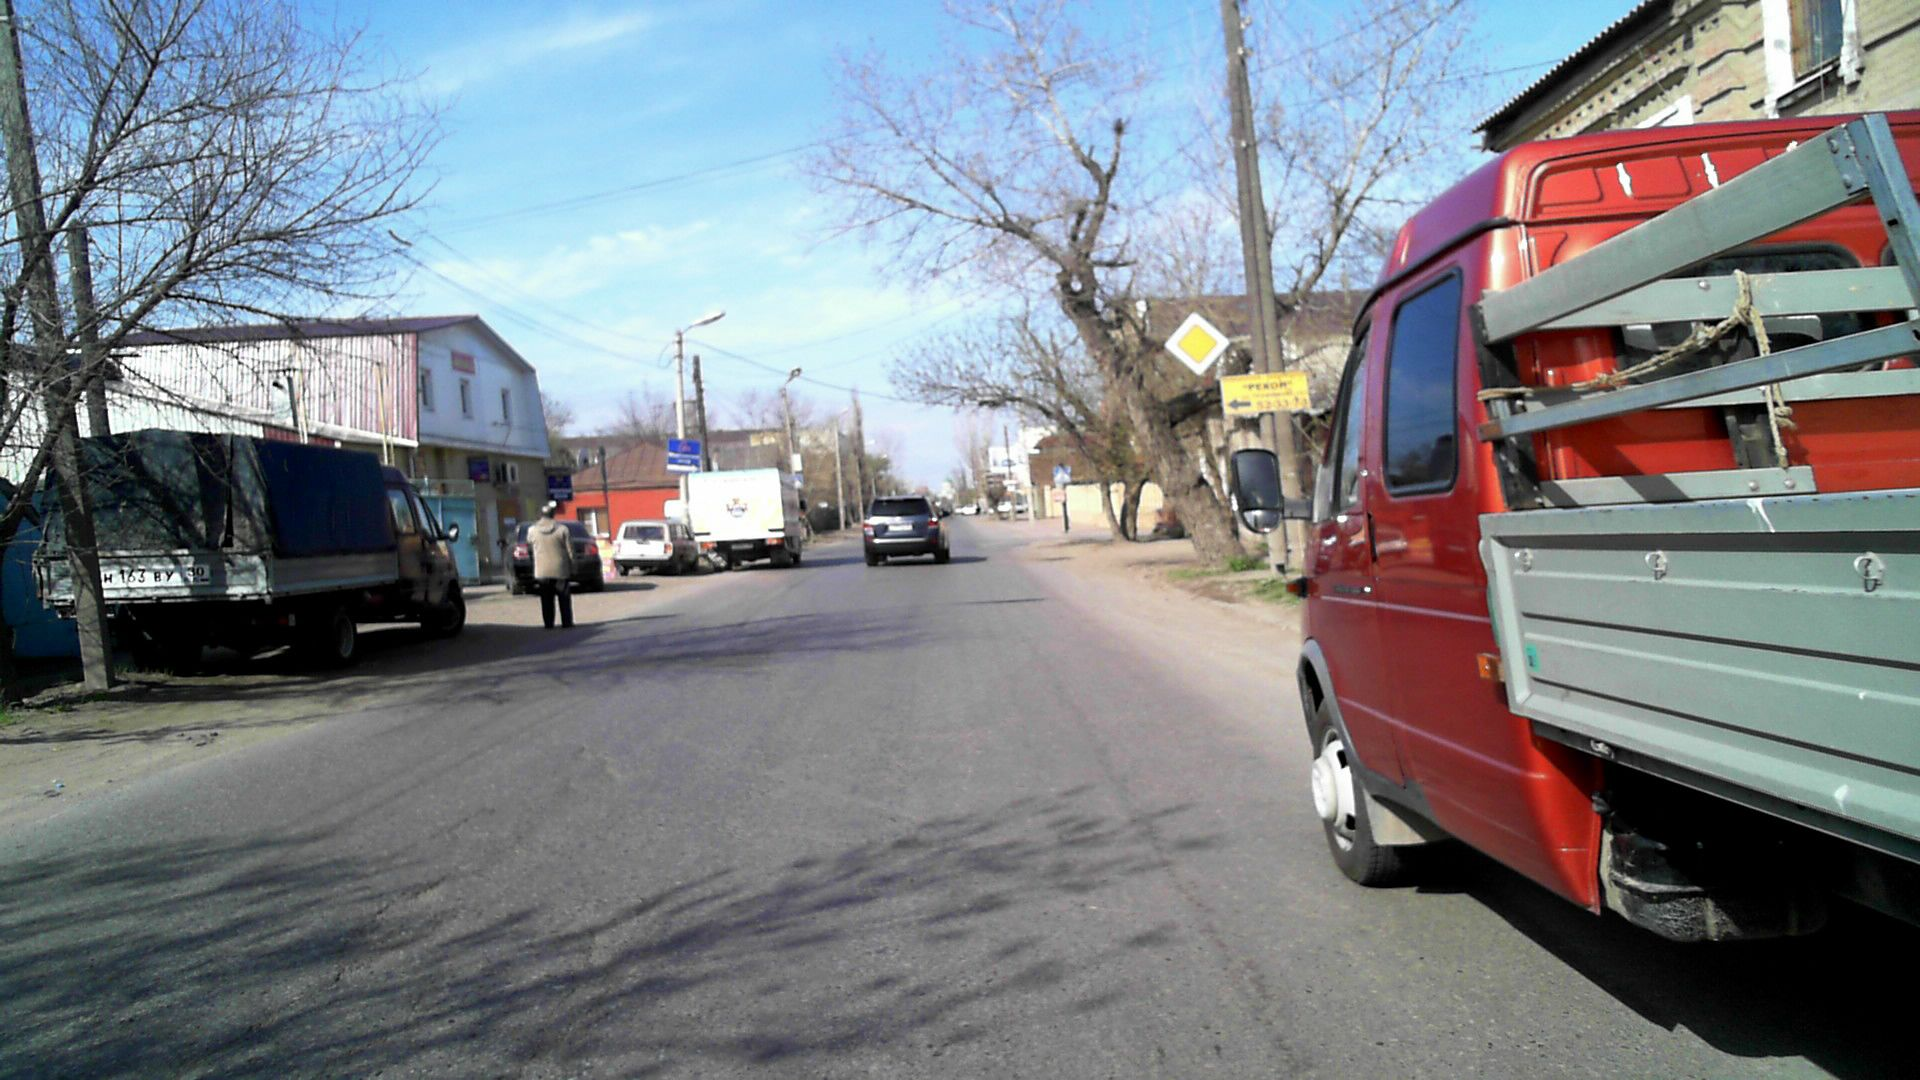Main Road: (1163, 313, 1232, 375)
